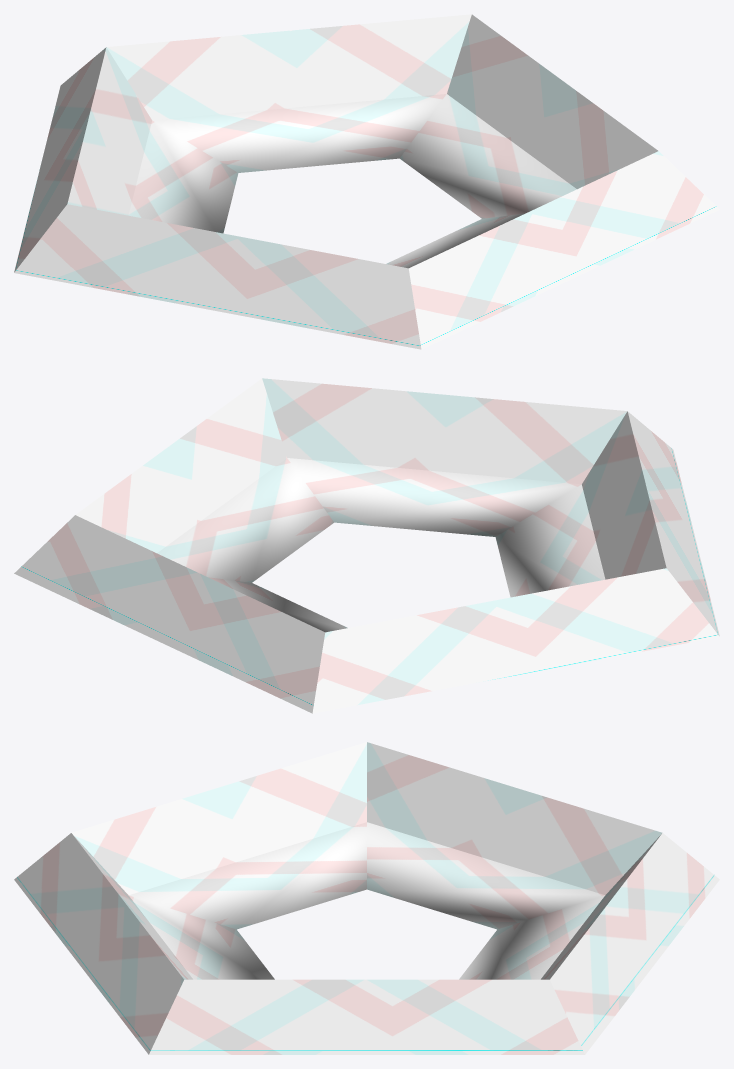
Rendered from Booster.obj.
The picture shows the model from 3 angles, top to bottom: view 1: azimuth 30°, elevation 25°; view 2: azimuth 150°, elevation 25°; view 3: azimuth 270°, elevation 25°; orthographic projection. The views are drawn at different scales.
Parts seen in each view (by area): view 1: 2; view 2: 2; view 3: 2.
Part boxes in pixels (x1,y1,x2,y2): 2: (14, 14, 719, 349); 2: (14, 378, 719, 713); 2: (14, 742, 719, 1054).
Bounding box in the file's own units: 170 × 20.84 × 178.
1 material, 1 textured.
